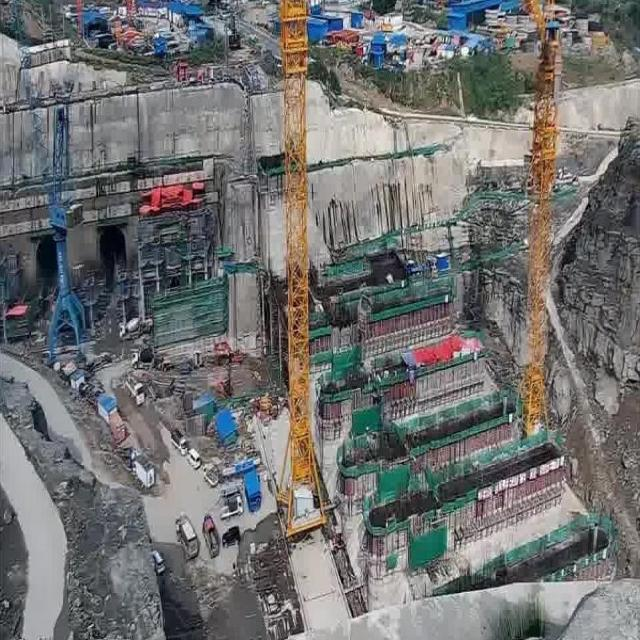crane: (268, 0, 330, 540), (516, 25, 568, 443)
